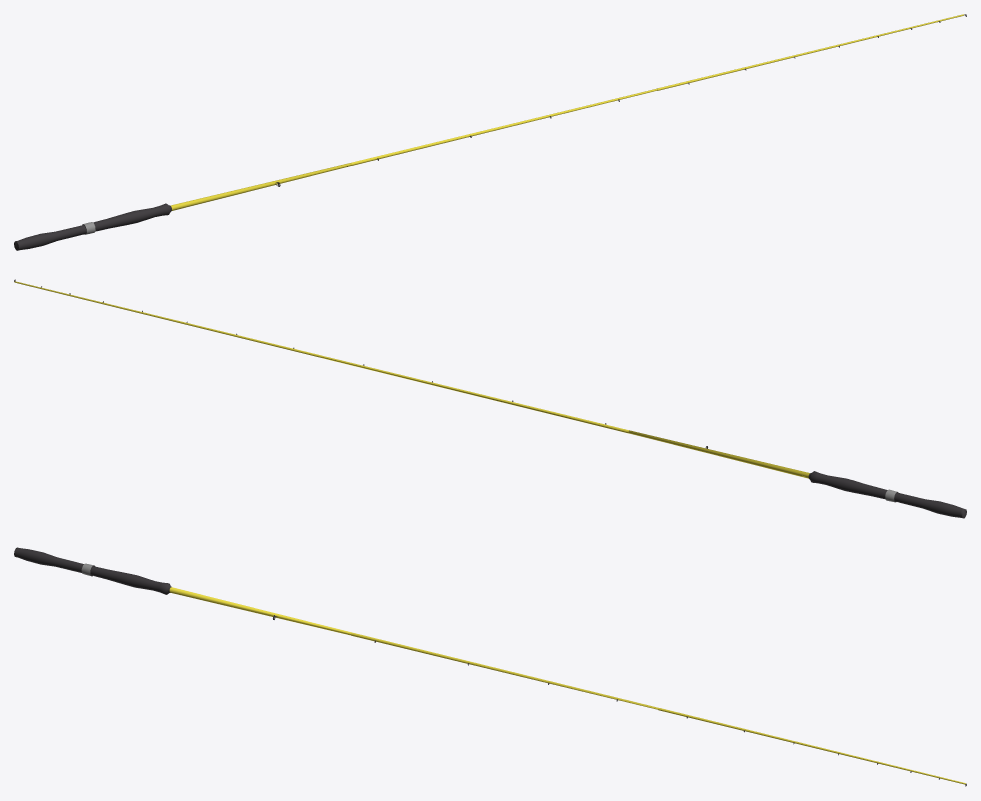
File: FishingRod.fbx
3 renders of one model, top to bottom at view 1: azimuth 30°, elevation 25°; view 2: azimuth 150°, elevation 25°; view 3: azimuth 330°, elevation 25°, orthographic.
Visible parts, largest first — view 1: fishing_rod_base; view 2: fishing_rod_base; view 3: fishing_rod_base.
Boxes of the visible parts, left/top/right/bottom form: fishing_rod_base: left=14, top=14, right=966, bottom=250; fishing_rod_base: left=14, top=279, right=966, bottom=518; fishing_rod_base: left=14, top=547, right=966, bottom=786.
Size of the model in its own units: 3.68 by 0.0423 by 0.0477.
1 material, 1 textured.
